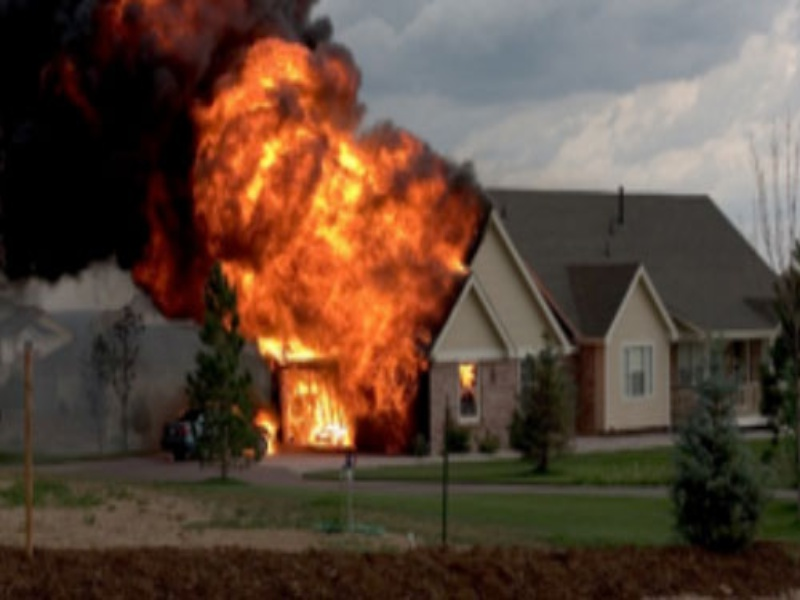fire: (178, 39, 465, 454)
